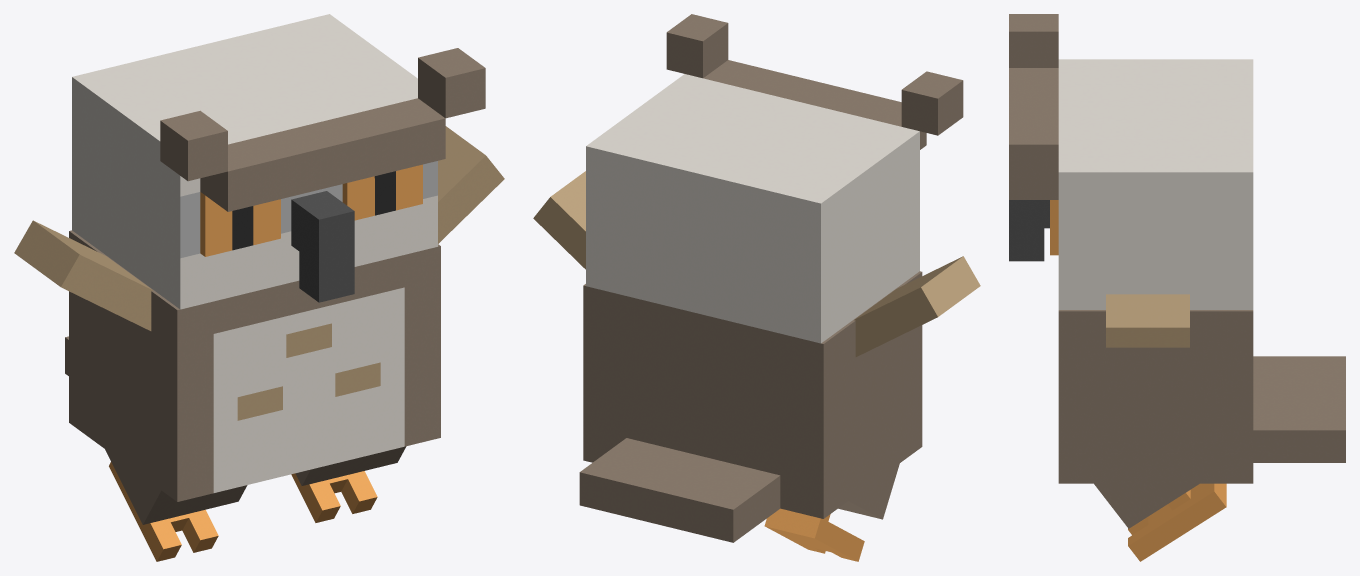
3 views of the same model, side by side, from view 1: azimuth 30°, elevation 25°; view 2: azimuth 150°, elevation 25°; view 3: azimuth 270°, elevation 25° (orthographic). The views are drawn at different scales.
Visible parts, largest first — view 1: Ch_22_Head, Ch_22, Ch_22_Eye_01, Ch_22_Wing_L, Ch_22_Leg_L, Ch_22_Wing_R, Ch_22_Leg_R; view 2: Ch_22_Head, Ch_22, Ch_22_Wing_L, Ch_22_Leg_L, Ch_22_Wing_R; view 3: Ch_22_Head, Ch_22, Ch_22_Leg_R, Ch_22_Wing_R, Ch_22_Eye_01.
Boxes of the visible parts, x1,y1,x2,y2 form: Ch_22_Head: [72, 14, 485, 309]; Ch_22: [65, 230, 440, 501]; Ch_22_Eye_01: [200, 164, 422, 256]; Ch_22_Wing_L: [14, 220, 152, 330]; Ch_22_Leg_L: [105, 449, 247, 561]; Ch_22_Wing_R: [438, 126, 504, 243]; Ch_22_Leg_R: [291, 446, 406, 522]; Ch_22_Head: [586, 14, 963, 343]; Ch_22: [579, 271, 922, 542]; Ch_22_Wing_L: [854, 256, 980, 356]; Ch_22_Leg_L: [764, 463, 899, 561]; Ch_22_Wing_R: [533, 171, 585, 269]; Ch_22_Head: [1009, 14, 1253, 309]; Ch_22: [1058, 310, 1345, 483]; Ch_22_Leg_R: [1094, 483, 1226, 561]; Ch_22_Wing_R: [1106, 294, 1189, 347]; Ch_22_Eye_01: [1050, 200, 1058, 255].
Bounding box in the file's own units: 11.53 × 12.03 × 8.43.
